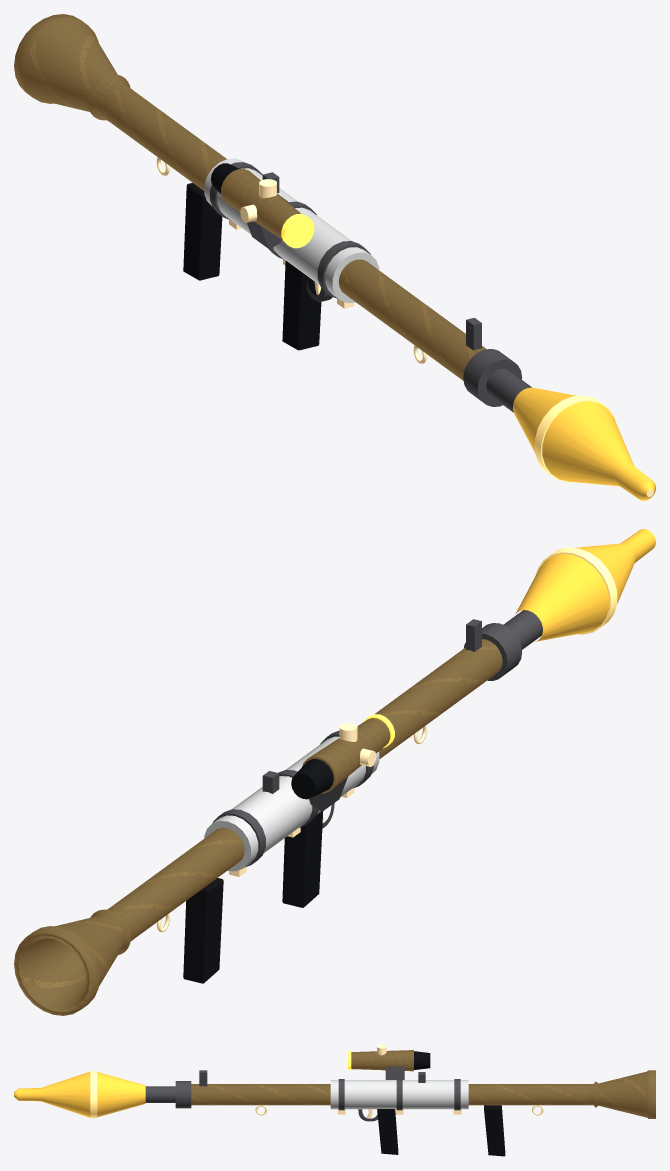
File: rpg7_launcher (1).glb
3 renders of one model, top to bottom at view 1: azimuth 30°, elevation 25°; view 2: azimuth 150°, elevation 25°; view 3: azimuth 270°, elevation 25°, orthographic. The views are drawn at different scales.
Parts seen in each view (by area): view 1: RPG7_Tube_metalPrimary, RPG7_Warhead_chassis, RPG7_Tube_polymer, RPG7_Tube_metalDark, RPG7_Tube_wood, RPG7_Tube_metalChrome, RPG7_Warhead_metalDark, RPG7_Warhead_accent, RPG7_Tube_lens; view 2: RPG7_Tube_metalPrimary, RPG7_Tube_polymer, RPG7_Warhead_chassis, RPG7_Tube_wood, RPG7_Tube_metalDark, RPG7_Tube_metalChrome, RPG7_Warhead_accent, RPG7_Warhead_metalDark; view 3: RPG7_Tube_metalPrimary, RPG7_Tube_wood, RPG7_Warhead_chassis, RPG7_Tube_polymer, RPG7_Tube_metalDark, RPG7_Warhead_metalDark, RPG7_Tube_metalChrome, RPG7_Warhead_accent.
Boxes of the visible parts, x1=… form: RPG7_Tube_metalPrimary: x1=14, y1=14, x2=486, y2=380; RPG7_Warhead_chassis: x1=513, y1=387, x2=655, y2=500; RPG7_Tube_polymer: x1=183, y1=163, x2=321, y2=350; RPG7_Tube_metalDark: x1=210, y1=162, x2=522, y2=406; RPG7_Tube_wood: x1=204, y1=158, x2=379, y2=302; RPG7_Tube_metalChrome: x1=156, y1=157, x2=426, y2=363; RPG7_Warhead_metalDark: x1=486, y1=368, x2=531, y2=412; RPG7_Warhead_accent: x1=534, y1=395, x2=616, y2=482; RPG7_Tube_lens: x1=281, y1=213, x2=314, y2=248; RPG7_Tube_metalPrimary: x1=14, y1=639, x2=502, y2=1015; RPG7_Tube_polymer: x1=183, y1=759, x2=333, y2=983; RPG7_Warhead_chassis: x1=515, y1=529, x2=655, y2=641; RPG7_Tube_wood: x1=204, y1=736, x2=379, y2=871; RPG7_Tube_metalDark: x1=212, y1=619, x2=522, y2=867; RPG7_Tube_metalChrome: x1=156, y1=723, x2=426, y2=932; RPG7_Warhead_accent: x1=536, y1=547, x2=617, y2=634; RPG7_Warhead_metalDark: x1=503, y1=610, x2=542, y2=649; RPG7_Tube_metalPrimary: x1=191, y1=1050, x2=655, y2=1118; RPG7_Tube_wood: x1=330, y1=1080, x2=468, y2=1109; RPG7_Warhead_chassis: x1=14, y1=1071, x2=145, y2=1117; RPG7_Tube_polymer: x1=377, y1=1051, x2=505, y2=1156; RPG7_Tube_metalDark: x1=175, y1=1066, x2=460, y2=1121; RPG7_Warhead_metalDark: x1=145, y1=1086, x2=175, y2=1102; RPG7_Tube_metalChrome: x1=255, y1=1044, x2=543, y2=1118; RPG7_Warhead_accent: x1=90, y1=1071, x2=97, y2=1118.
Size of the model in its own units: 0.144 by 0.24 by 1.44.
8 materials, 2 textured.
